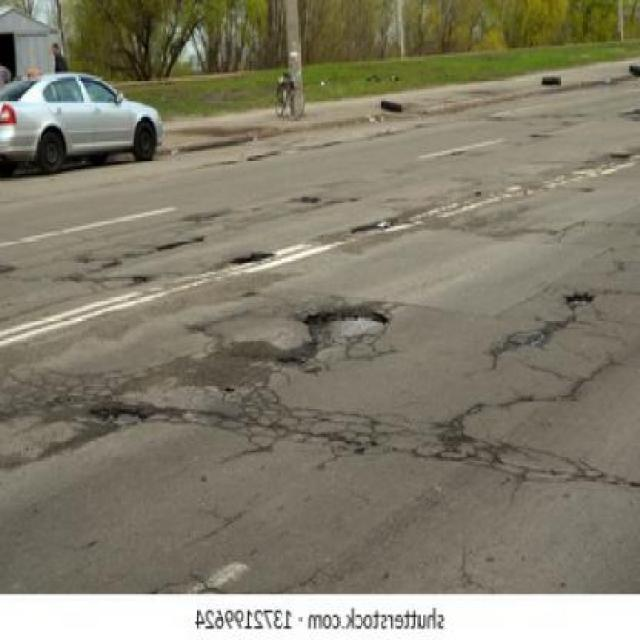Pothole: (299, 302, 390, 348), (564, 291, 595, 321)
